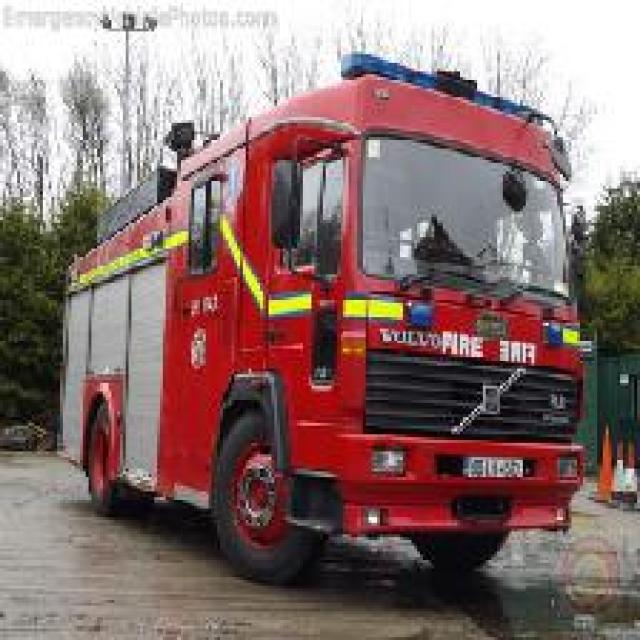Fire-truck: (54, 48, 592, 583)
